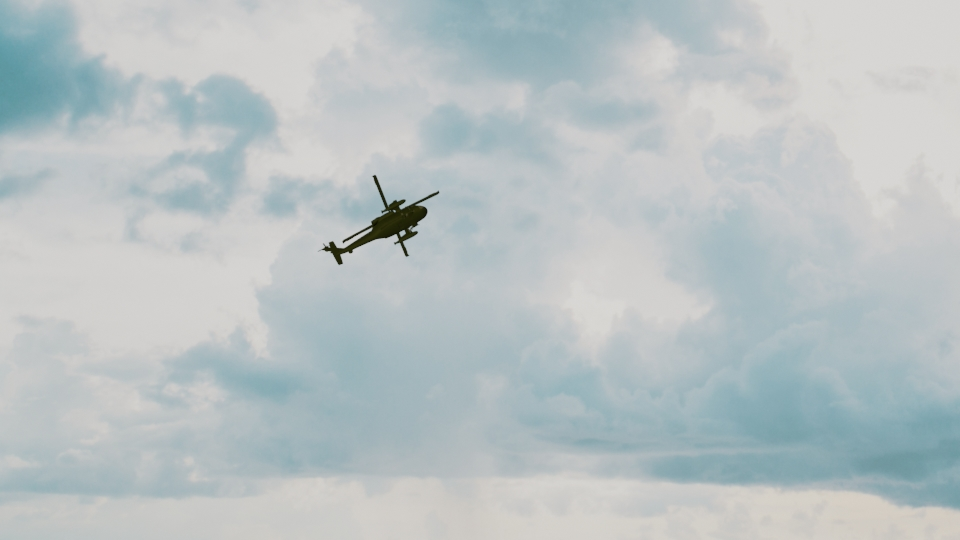heli: (319, 172, 440, 264)
